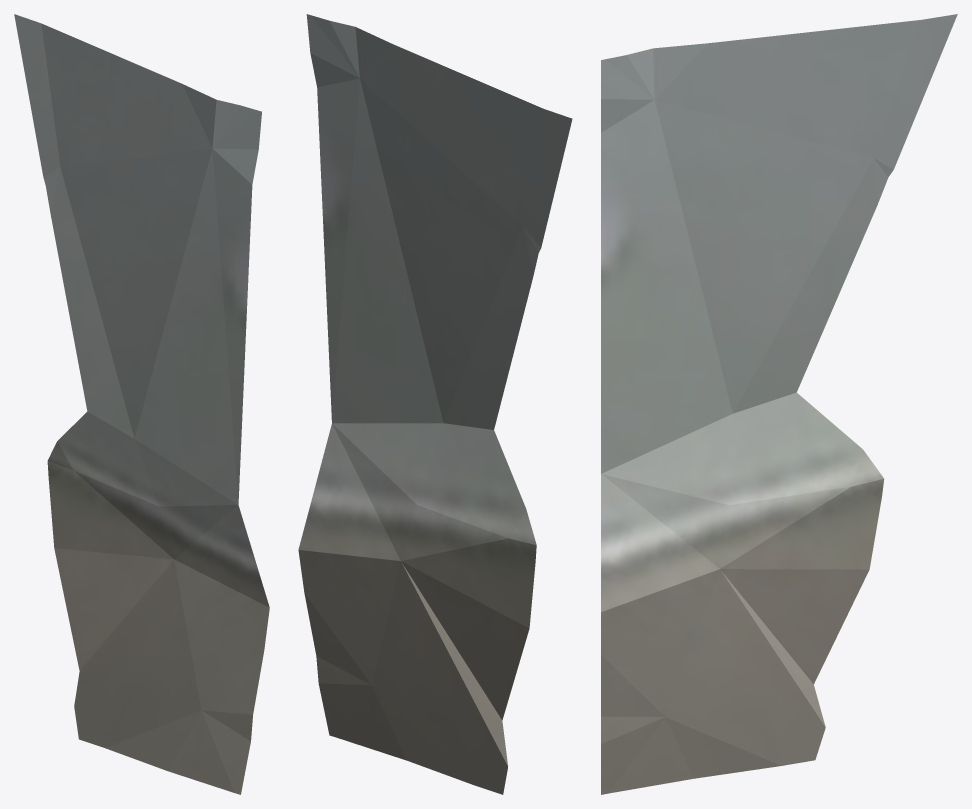
3 views of the same model, side by side, from view 1: azimuth 30°, elevation 25°; view 2: azimuth 210°, elevation 25°; view 3: azimuth 270°, elevation 25° (orthographic). The views are drawn at different scales.
Bounding box in the file's own units: 0.1209 × 0.8374 × 0.3628.
Materials: 1 (1 with a texture image).
